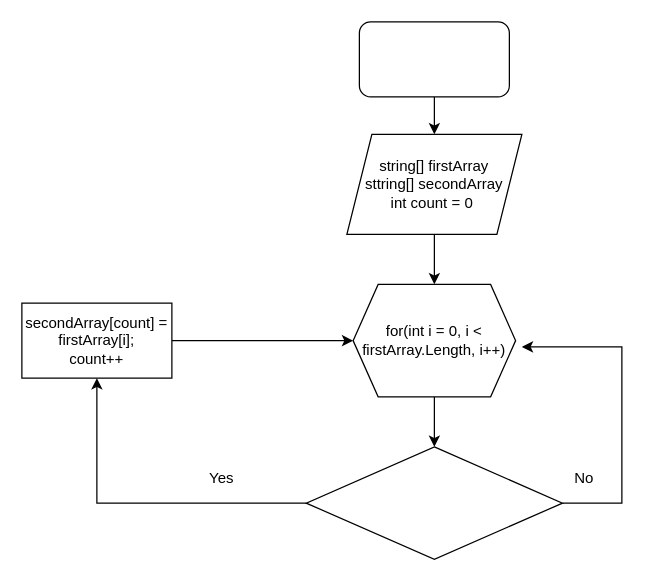
The diagram is 654 pixels wide and 581 high, and some of its shapes have lost their labels. Here are the shapes that lost their labels. From the top down, the centre of each, then its label:
the point at 433,59: Sort
the point at 433,502: if(firstArray[count].Lenght<=3)
